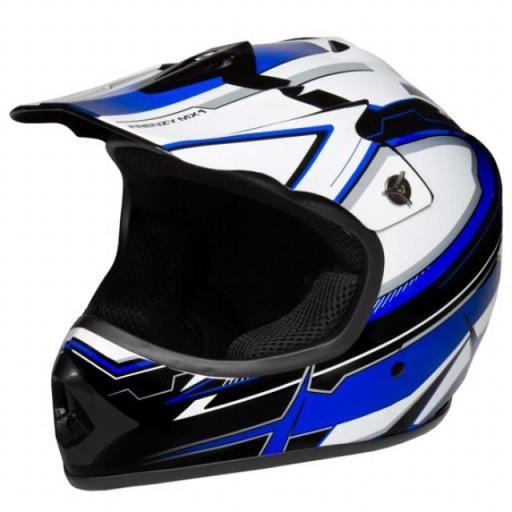Helmet: (12, 39, 501, 488)
